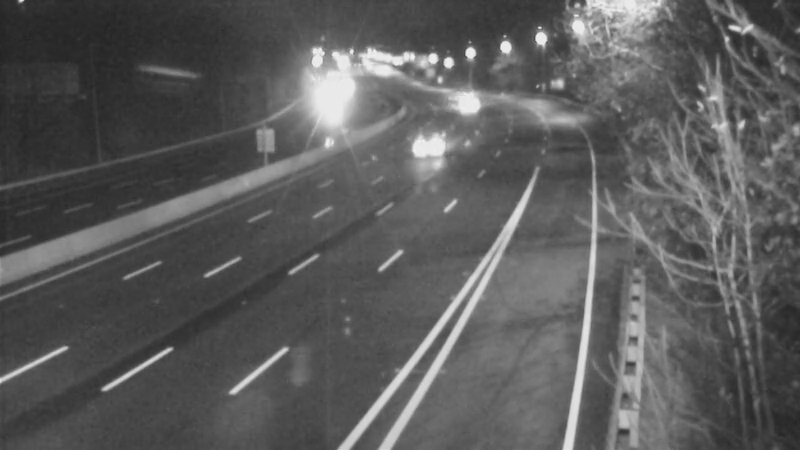vehicle: (445, 68, 495, 118), (444, 79, 494, 129), (414, 121, 464, 171), (306, 77, 356, 127)
